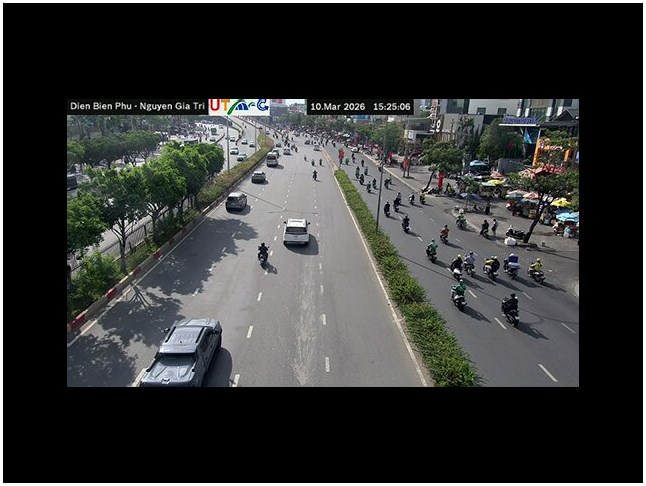car: (136, 317, 223, 387), (283, 218, 310, 246), (226, 192, 250, 213), (251, 172, 268, 184)
motorbike: (484, 255, 500, 277)
